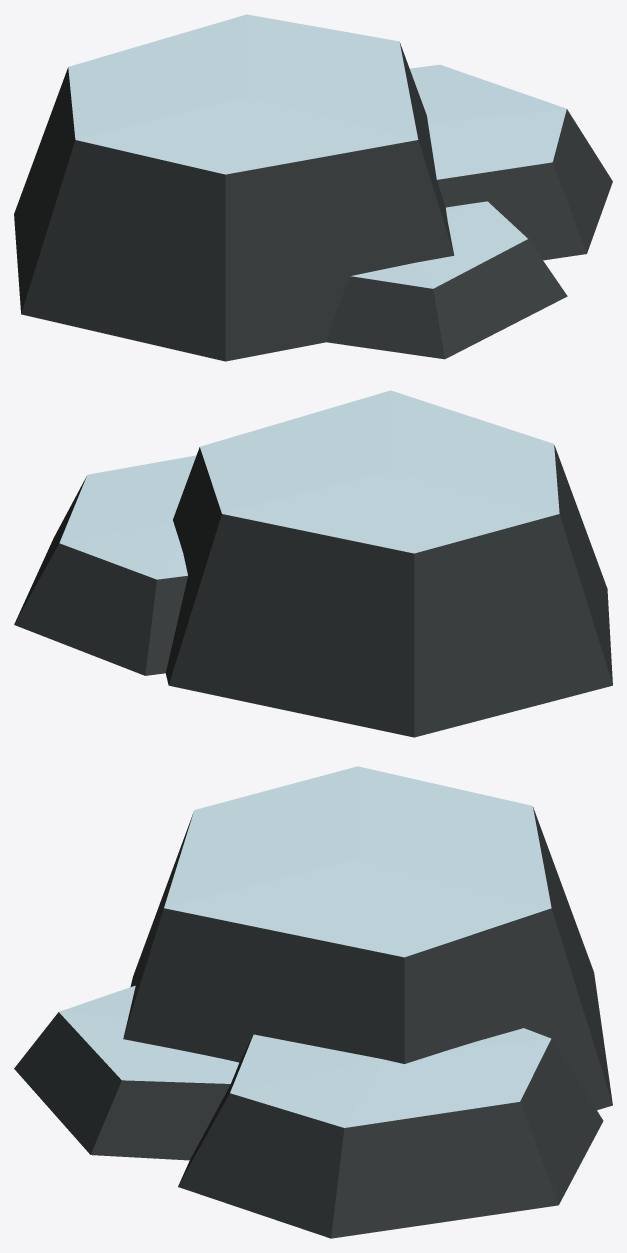
Rendered from SM_Env_Generic_Rock_08_Snow.fbx.
3 views of the same model, one above another, from view 1: azimuth 30°, elevation 25°; view 2: azimuth 150°, elevation 25°; view 3: azimuth 270°, elevation 25° (orthographic). The views are drawn at different scales.
Parts seen in each view (by area): view 1: SM_Env_Generic_Rock_08_Snow; view 2: SM_Env_Generic_Rock_08_Snow; view 3: SM_Env_Generic_Rock_08_Snow.
Part boxes in pixels (<box>): SM_Env_Generic_Rock_08_Snow: <box>14,14,612,361</box>; SM_Env_Generic_Rock_08_Snow: <box>14,390,612,737</box>; SM_Env_Generic_Rock_08_Snow: <box>14,766,612,1238</box>.
Bounding box in the file's own units: 52.08 × 17.25 × 41.2.
Materials: 1 (1 with a texture image).
